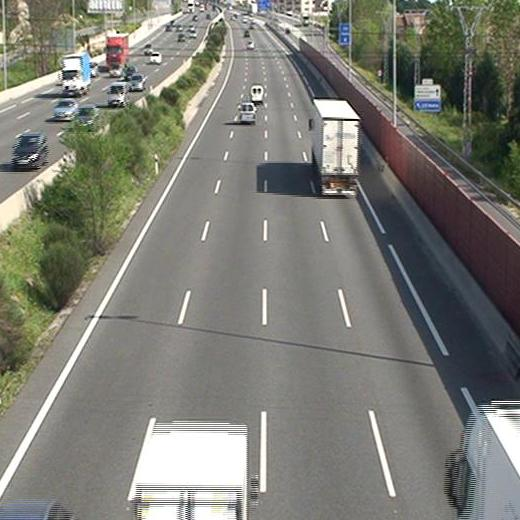car: (245, 40, 253, 48)
truck: (310, 99, 357, 196)
van: (240, 102, 255, 124), (250, 85, 263, 103)
